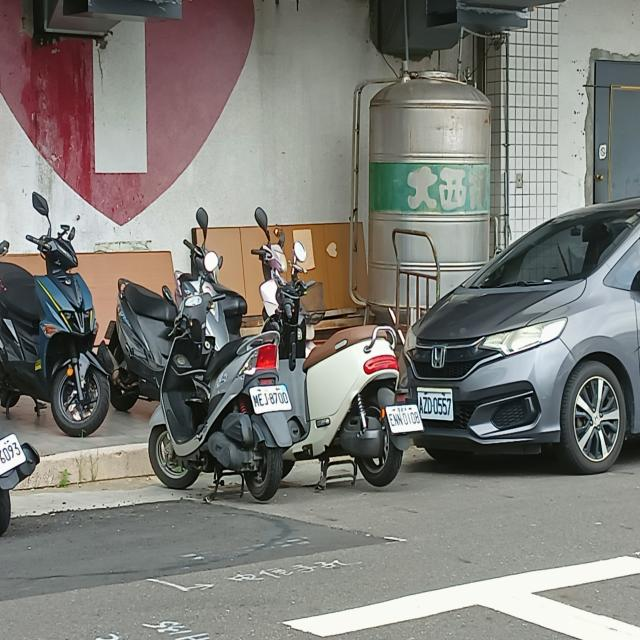license-plate: (249, 383, 292, 414), (418, 387, 453, 421), (386, 405, 422, 432)
